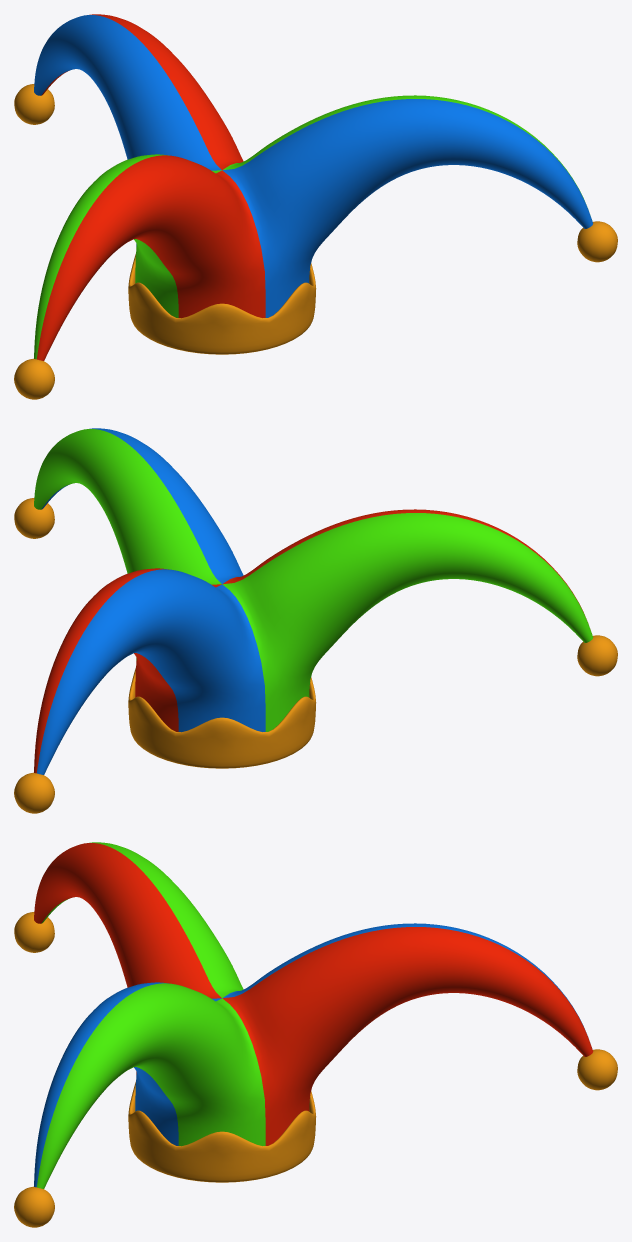
File: clown_hat.glb
3 renders of one model, top to bottom at view 1: azimuth 30°, elevation 25°; view 2: azimuth 150°, elevation 25°; view 3: azimuth 270°, elevation 25°, orthographic.
Visible parts, largest first — view 1: NurbsPath.002_2, NurbsPath.001_3, Sphere.002_6, Sphere_4, Sphere.001_5; view 2: NurbsPath.002_2, NurbsPath.001_3, Sphere.001_5, Sphere.002_6, Sphere_4; view 3: NurbsPath.002_2, NurbsPath.001_3, Sphere_4, Sphere.001_5, Sphere.002_6.
Part boxes in pixels (left/top/right/bottom): NurbsPath.002_2: left=34, top=14, right=593, bottom=360; NurbsPath.001_3: left=128, top=254, right=316, bottom=354; Sphere.002_6: left=14, top=358, right=54, bottom=399; Sphere_4: left=577, top=221, right=617, bottom=262; Sphere.001_5: left=14, top=84, right=54, bottom=124; NurbsPath.002_2: left=34, top=428, right=593, bottom=774; NurbsPath.001_3: left=128, top=668, right=316, bottom=768; Sphere.001_5: left=14, top=772, right=54, bottom=813; Sphere.002_6: left=577, top=635, right=617, bottom=676; Sphere_4: left=14, top=498, right=54, bottom=538; NurbsPath.002_2: left=34, top=842, right=593, bottom=1188; NurbsPath.001_3: left=128, top=1082, right=316, bottom=1182; Sphere_4: left=14, top=1186, right=54, bottom=1227; Sphere.001_5: left=577, top=1049, right=617, bottom=1090; Sphere.002_6: left=14, top=912, right=54, bottom=952.
Bounding box in the file's own units: 0.6084 × 0.2115 × 0.5317.
